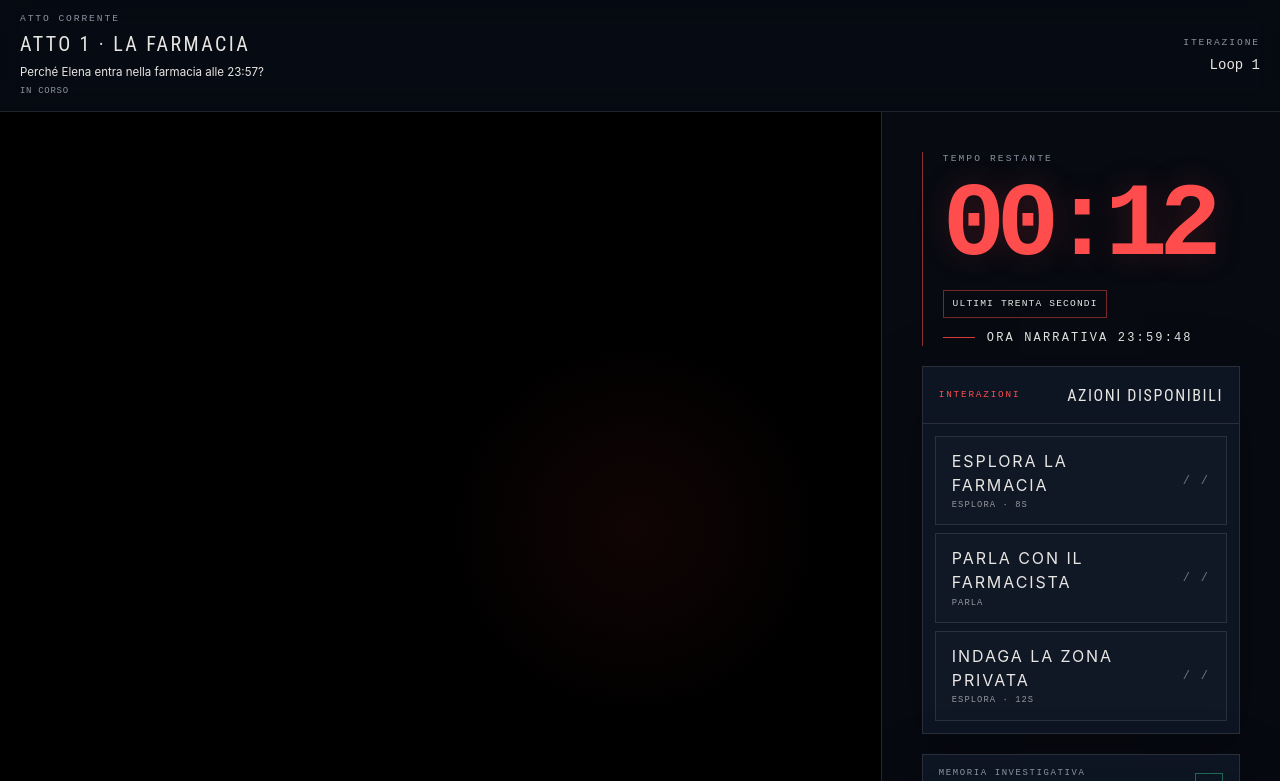
UI Atti e segreti › mostra domanda senza checklist e completa l'Atto alla mezzanotte
The width and height of the screenshot is (1280, 781).
Expected: the text "Perché Elena entra nella farmacia alle 23:57?" is shown, [20,64,264,81]
Click the button named "Indaga la zona privataEsplora · 12s" at (1032, 656), box [935,631,1227,721]
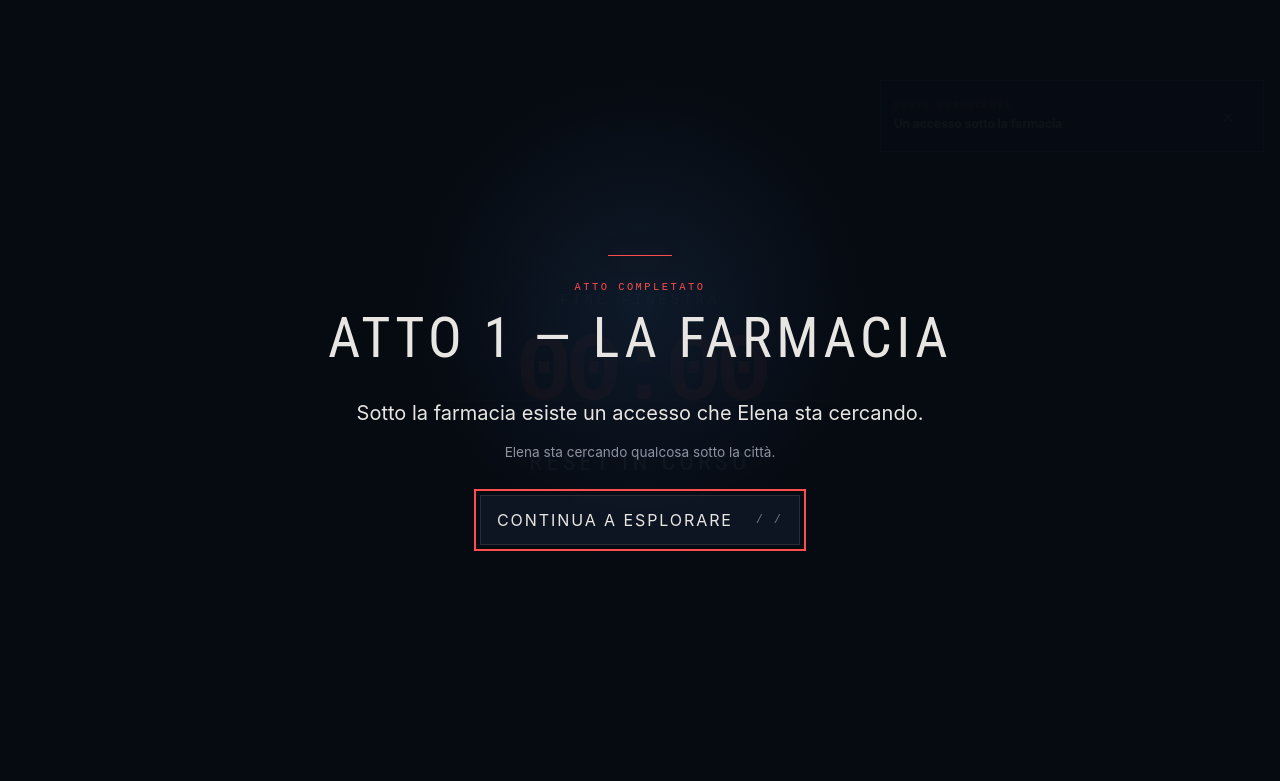
Expected: the text "Atto completato" is shown, [574,280,706,295]
